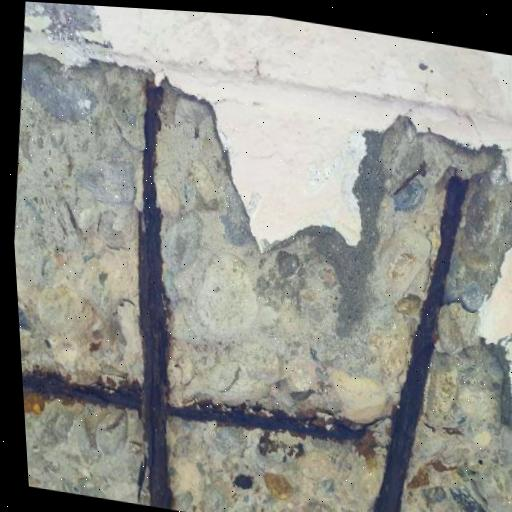exposed_rebar: (22, 81, 350, 509), (373, 175, 469, 512), (393, 160, 426, 196), (233, 474, 253, 490)
spalling: (14, 55, 512, 512)
